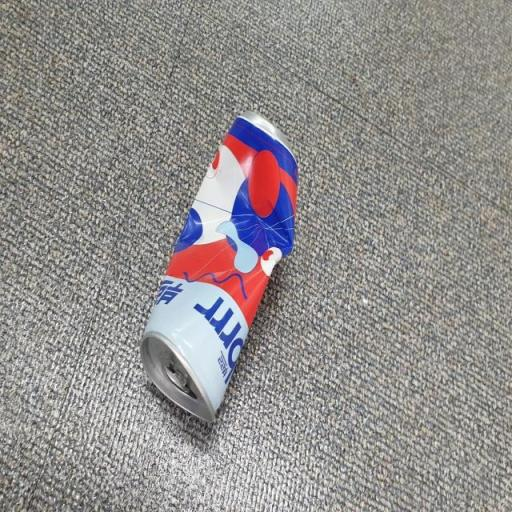metal: (124, 78, 312, 450)
